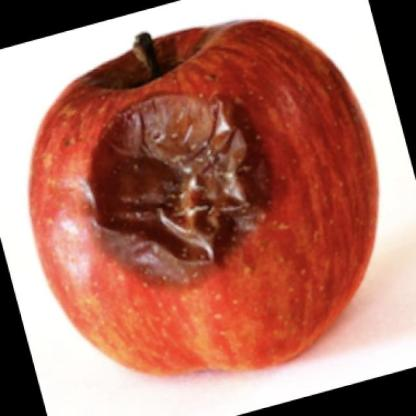defect: (81, 89, 298, 297)
